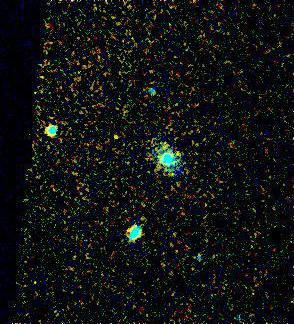star: (106, 117, 136, 147)
